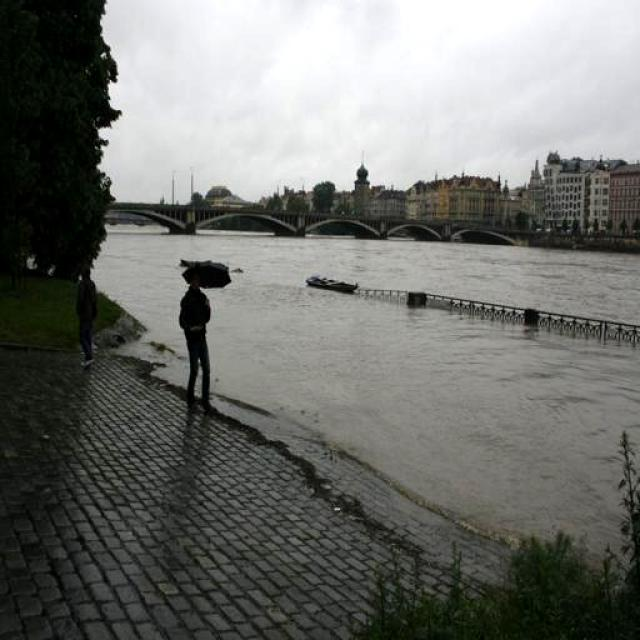civilian: (167, 275, 224, 420), (70, 254, 114, 392)
